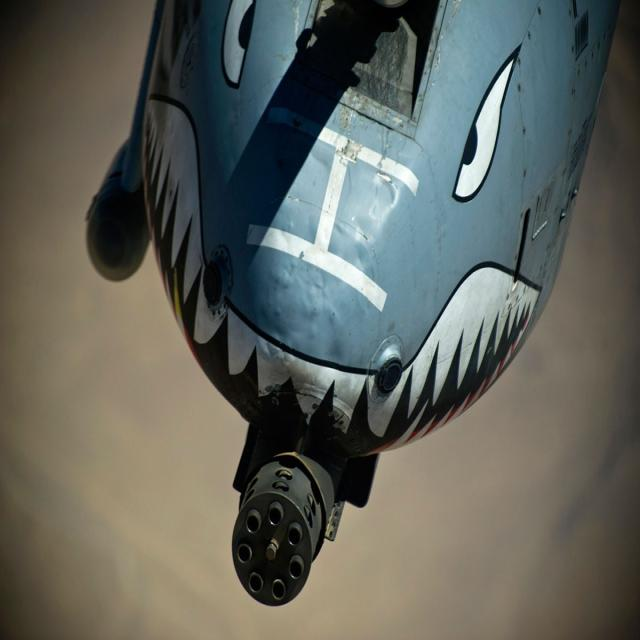A10: (65, 5, 619, 640)
